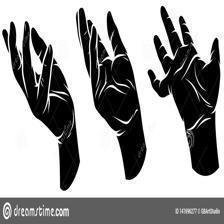Ladder: (47, 122, 160, 211), (84, 19, 171, 104)
